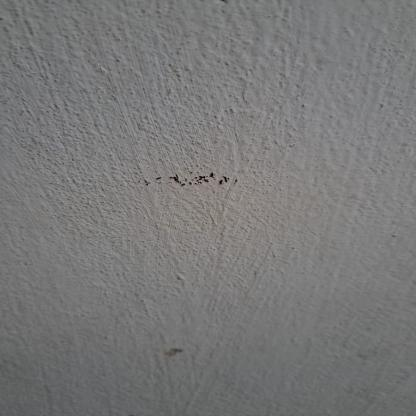spot: (118, 159, 255, 189), (154, 343, 200, 361)
